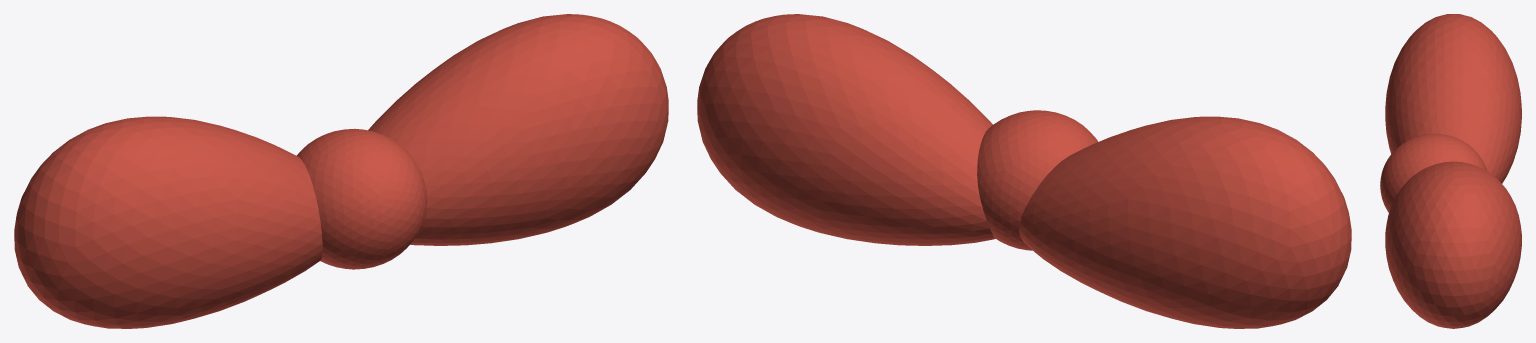
File: bow.glb
The picture shows the model from 3 angles, left to right: view 1: azimuth 30°, elevation 25°; view 2: azimuth 150°, elevation 25°; view 3: azimuth 270°, elevation 25°; orthographic projection. The views are drawn at different scales.
Parts seen in each view (by area): view 1: geometry_0; view 2: geometry_0; view 3: geometry_0.
Boxes of the visible parts, x1=… form: geometry_0: x1=14, y1=14, x2=668, y2=328; geometry_0: x1=697, y1=14, x2=1351, y2=328; geometry_0: x1=1380, y1=14, x2=1521, y2=328.
Size of the model in its own units: 0.9129 by 0.2705 by 0.2388.
